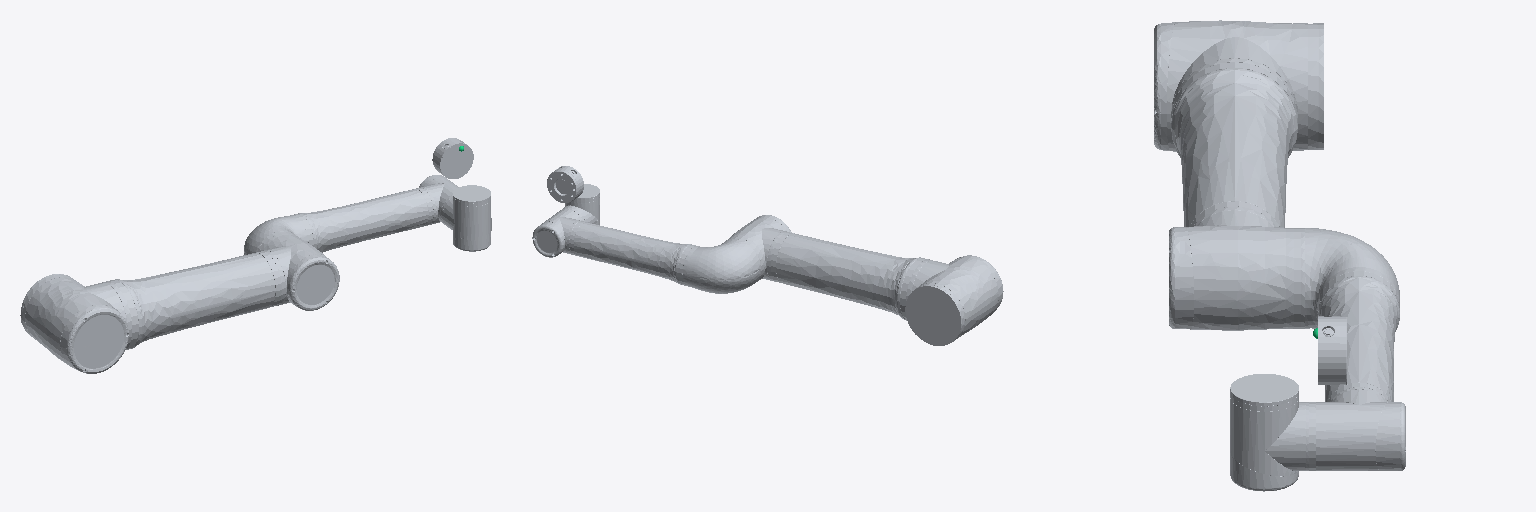
robot.urdf — jaka_zu30_real:
<?xml version="1.0" encoding="utf-8"?>
<robot name="jaka_zu30_real">
  <!-- JAKA zu30 — 真机 CAD（厂商官网 STEP，build_vendor_urdf.py 生成）。几何为真实外形，运动学（轴/限位）复用程序化 URDF。 -->
  <link name="base_link">
    <visual>
      <origin xyz="0 0 0" rpy="0 0 0"/>
      <geometry><mesh filename="meshes_real/base_link.stl"/></geometry>
      <material name="base_link_m"><color rgba="0.80 0.82 0.85 1"/></material>
    </visual>
    <collision>
      <origin xyz="0 0 0" rpy="0 0 0"/>
      <geometry><mesh filename="meshes_real/base_link.stl"/></geometry>
    </collision>
  </link>
  <link name="link_1">
    <visual>
      <origin xyz="0 0 0" rpy="0 0 0"/>
      <geometry><mesh filename="meshes_real/link_1.stl"/></geometry>
      <material name="link_1_m"><color rgba="0.80 0.82 0.85 1"/></material>
    </visual>
    <collision>
      <origin xyz="0 0 0" rpy="0 0 0"/>
      <geometry><mesh filename="meshes_real/link_1.stl"/></geometry>
    </collision>
  </link>
  <link name="link_2">
    <visual>
      <origin xyz="0 0 0" rpy="0 0 0"/>
      <geometry><mesh filename="meshes_real/link_2.stl"/></geometry>
      <material name="link_2_m"><color rgba="0.80 0.82 0.85 1"/></material>
    </visual>
    <collision>
      <origin xyz="0 0 0" rpy="0 0 0"/>
      <geometry><mesh filename="meshes_real/link_2.stl"/></geometry>
    </collision>
  </link>
  <link name="link_3">
    <visual>
      <origin xyz="0 0 0" rpy="0 0 0"/>
      <geometry><mesh filename="meshes_real/link_3.stl"/></geometry>
      <material name="link_3_m"><color rgba="0.80 0.82 0.85 1"/></material>
    </visual>
    <collision>
      <origin xyz="0 0 0" rpy="0 0 0"/>
      <geometry><mesh filename="meshes_real/link_3.stl"/></geometry>
    </collision>
  </link>
  <link name="link_4">
    <visual>
      <origin xyz="0 0 0" rpy="0 0 0"/>
      <geometry><mesh filename="meshes_real/link_4.stl"/></geometry>
      <material name="link_4_m"><color rgba="0.80 0.82 0.85 1"/></material>
    </visual>
    <collision>
      <origin xyz="0 0 0" rpy="0 0 0"/>
      <geometry><mesh filename="meshes_real/link_4.stl"/></geometry>
    </collision>
  </link>
  <link name="link_5">
    <visual>
      <origin xyz="0 0 0" rpy="0 0 0"/>
      <geometry><mesh filename="meshes_real/link_5.stl"/></geometry>
      <material name="link_5_m"><color rgba="0.80 0.82 0.85 1"/></material>
    </visual>
    <collision>
      <origin xyz="0 0 0" rpy="0 0 0"/>
      <geometry><mesh filename="meshes_real/link_5.stl"/></geometry>
    </collision>
  </link>
  <link name="tool0">
    <visual>
      <origin xyz="0 0 0" rpy="0 0 0"/>
      <geometry><mesh filename="meshes_real/tool0.stl"/></geometry>
      <material name="tool0_m"><color rgba="0.80 0.82 0.85 1"/></material>
    </visual>
    <collision>
      <origin xyz="0 0 0" rpy="0 0 0"/>
      <geometry><mesh filename="meshes_real/tool0.stl"/></geometry>
    </collision>
  </link>
  <link name="tcp">
    <visual>
      <origin xyz="0 0 0" rpy="0 0 0"/>
      <geometry><sphere radius="0.008"/></geometry>
      <material name="tcp_m"><color rgba="0.15 0.85 0.55 1"/></material>
    </visual>
  </link>
  <joint name="joint_1" type="revolute">
    <parent link="base_link"/>
    <child link="link_1"/>
    <origin xyz="0.093 3.41061e-13 -0.065" rpy="0 0 0"/>
    <axis xyz="0 0 1"/>
    <limit lower="-6.28318" upper="6.28318" effort="220" velocity="2.0944"/>
  </joint>
  <joint name="joint_2" type="revolute">
    <parent link="link_1"/>
    <child link="link_2"/>
    <origin xyz="-0.093 -0.101 -0.2245" rpy="0 0 0"/>
    <axis xyz="0 1 0"/>
    <limit lower="-1.48353" upper="4.62512" effort="220" velocity="2.0944"/>
  </joint>
  <joint name="joint_3" type="revolute">
    <parent link="link_2"/>
    <child link="link_3"/>
    <origin xyz="0.5885 -0.02885 0.093" rpy="0 0 0"/>
    <axis xyz="0 1 0"/>
    <limit lower="-3.05433" upper="3.05433" effort="220" velocity="2.0944"/>
  </joint>
  <joint name="joint_4" type="revolute">
    <parent link="link_3"/>
    <child link="link_4"/>
    <origin xyz="0.5725 0.0016 -2.84217e-14" rpy="0 0 0"/>
    <axis xyz="0 0 1"/>
    <limit lower="-1.48353" upper="4.62512" effort="220" velocity="3.83972"/>
  </joint>
  <joint name="joint_5" type="revolute">
    <parent link="link_4"/>
    <child link="link_5"/>
    <origin xyz="0.0565871 -0.0099682 0.0784" rpy="0 0 0"/>
    <axis xyz="0 1 0"/>
    <limit lower="-6.28318" upper="6.28318" effort="220" velocity="3.83972"/>
  </joint>
  <joint name="joint_6" type="revolute">
    <parent link="link_5"/>
    <child link="tool0"/>
    <origin xyz="0.00649446 0.0282682 0.013145" rpy="0 0 0"/>
    <axis xyz="0 0 1"/>
    <limit lower="-6.28318" upper="6.28318" effort="220" velocity="3.83972"/>
  </joint>
  <joint name="tcp_joint" type="fixed">
    <parent link="tool0"/>
    <child link="tcp"/>
    <origin xyz="0 0 0.081" rpy="0 0 0"/>
  </joint>
</robot>

--- Render facts (derived) ---
3 views of the same robot in one strip: view 1: azimuth 30°, elevation 25°; view 2: azimuth 150°, elevation 25°; view 3: azimuth 270°, elevation 25° (orthographic).
Robot: jaka_zu30_real — 8 links, 7 joints (6 revolute, 1 fixed); root link base_link; default pose: all joints at 0.
Links seen in each view (by area): view 1: link_2, link_3, link_4, tool0; view 2: link_2, link_3, tool0, link_4; view 3: link_2, link_3, link_4, tool0.
Link boxes in pixels (bbox=[...]): link_2: bbox=[20, 231, 339, 373]; link_3: bbox=[244, 175, 458, 254]; link_4: bbox=[444, 185, 491, 251]; tool0: bbox=[432, 138, 473, 178]; link_2: bbox=[726, 215, 1003, 345]; link_3: bbox=[532, 207, 760, 293]; tool0: bbox=[547, 166, 583, 202]; link_4: bbox=[564, 184, 599, 224]; link_2: bbox=[1154, 20, 1323, 330]; link_3: bbox=[1305, 228, 1405, 470]; link_4: bbox=[1230, 374, 1305, 491]; tool0: bbox=[1318, 316, 1346, 384].
Size in the robot's own frame: 1.36 by 0.3681 by 0.2862 metres.
4 mesh visuals loaded from 7 distinct referenced files (4 binary STL); not drawn: 3 (reference not matched to a file when rendering).
